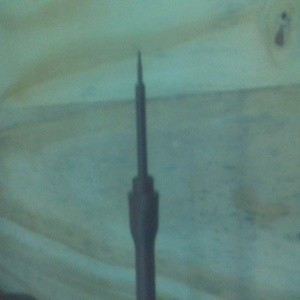solder: (127, 49, 160, 300)
